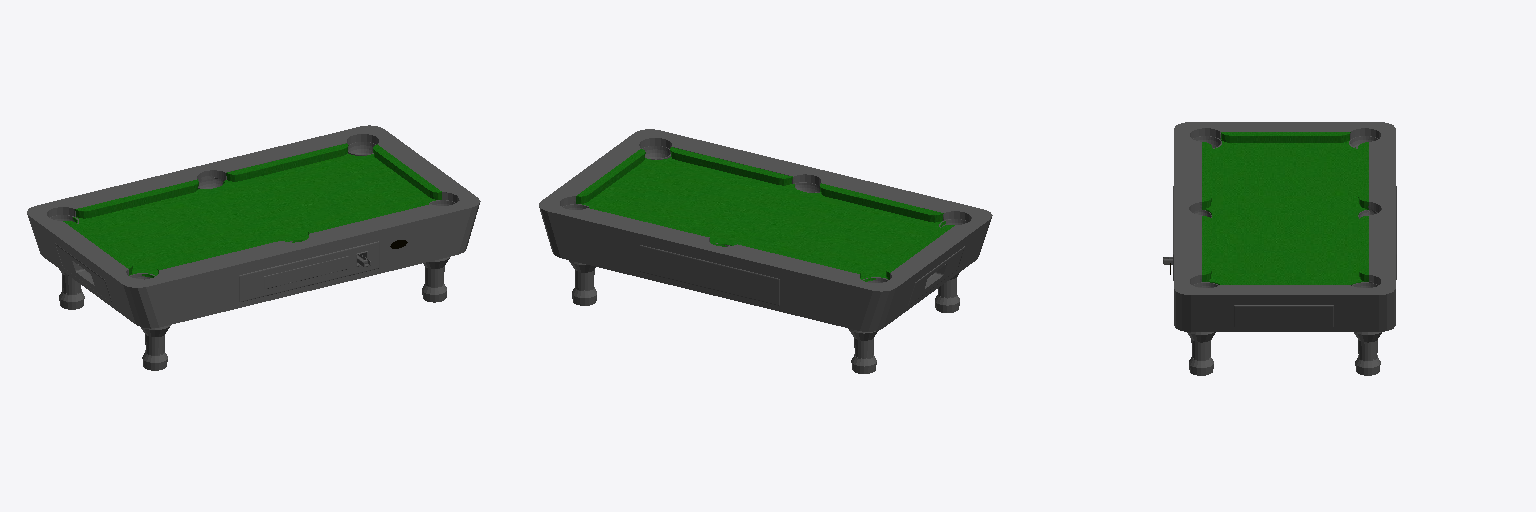
3 views of the same model, side by side, from view 1: azimuth 30°, elevation 25°; view 2: azimuth 150°, elevation 25°; view 3: azimuth 270°, elevation 25° (orthographic).
Parts seen in each view (by area): view 1: ChamferBox, Box001, ChamferBo4, ChamferBo5, ChamferBo1, Cylinder04, Box003, Cylinder07, Cylinder05, ChamferBo3, ChamferBo2, ChamferBo6 (+1 smaller); view 2: ChamferBox, Box001, ChamferBo3, ChamferBo2, ChamferBo1, Cylinder05, Cylinder06, Cylinder04, ChamferBo4, ChamferBo5, ChamferBo0; view 3: Box001, ChamferBox, ChamferBo0, Cylinder06, Cylinder07, ChamferBo4, ChamferBo3, ChamferBo5, ChamferBo2.
Part boxes in pixels (bbox=[...]): ChamferBox: bbox=[27, 125, 480, 328]; Box001: bbox=[73, 153, 435, 277]; ChamferBo4: bbox=[75, 179, 198, 218]; ChamferBo5: bbox=[226, 143, 348, 181]; ChamferBo1: bbox=[373, 144, 441, 199]; Cylinder04: bbox=[141, 325, 170, 370]; Box003: bbox=[265, 257, 346, 287]; Cylinder07: bbox=[422, 257, 449, 302]; Cylinder05: bbox=[59, 269, 84, 309]; ChamferBo3: bbox=[157, 238, 280, 273]; ChamferBo2: bbox=[308, 202, 428, 234]; ChamferBo6: bbox=[239, 241, 379, 301]; ChamferBox: bbox=[539, 129, 992, 331]; Box001: bbox=[582, 157, 945, 281]; ChamferBo3: bbox=[820, 183, 943, 222]; ChamferBo2: bbox=[670, 147, 792, 185]; ChamferBo1: bbox=[576, 149, 645, 203]; Cylinder05: bbox=[848, 328, 878, 373]; Cylinder06: bbox=[569, 260, 596, 305]; Cylinder04: bbox=[935, 273, 959, 312]; ChamferBo4: bbox=[738, 242, 860, 277]; ChamferBo5: bbox=[589, 206, 710, 236]; ChamferBo0: bbox=[886, 225, 954, 279]; Box001: bbox=[1204, 139, 1366, 284]; ChamferBox: bbox=[1174, 122, 1395, 331]; ChamferBo0: bbox=[1221, 132, 1350, 142]; Cylinder06: bbox=[1354, 332, 1381, 375]; Cylinder07: bbox=[1187, 332, 1215, 375]; ChamferBo4: bbox=[1358, 142, 1368, 209]; ChamferBo3: bbox=[1202, 142, 1211, 209]; ChamferBo5: bbox=[1359, 216, 1368, 281]; ChamferBo2: bbox=[1202, 216, 1211, 281].
Size of the model in its own units: 1.11 by 0.2829 by 0.6279.
6 materials, 1 textured.